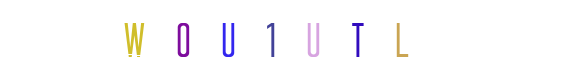1: (205, 0, 285, 80)
L: (246, 0, 326, 80)
O: (168, 0, 248, 80)
T: (243, 0, 323, 80)
U: (172, 0, 252, 80), (238, 0, 318, 80)
W: (159, 0, 239, 80)
